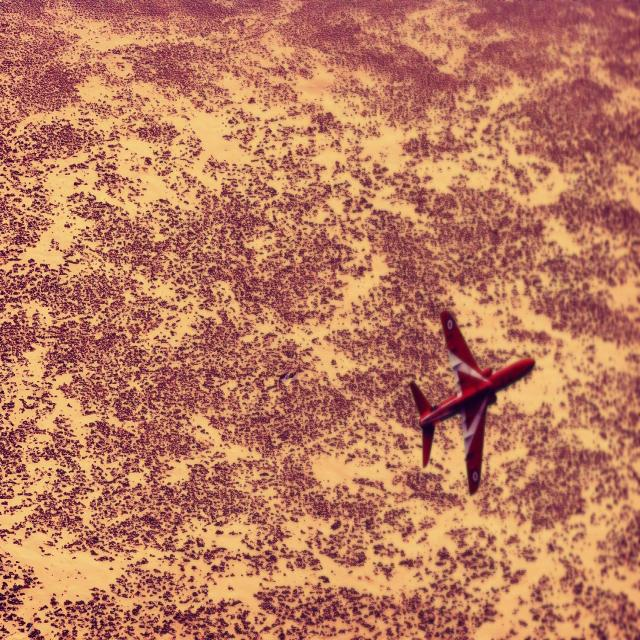airplane: (408, 308, 535, 496)
